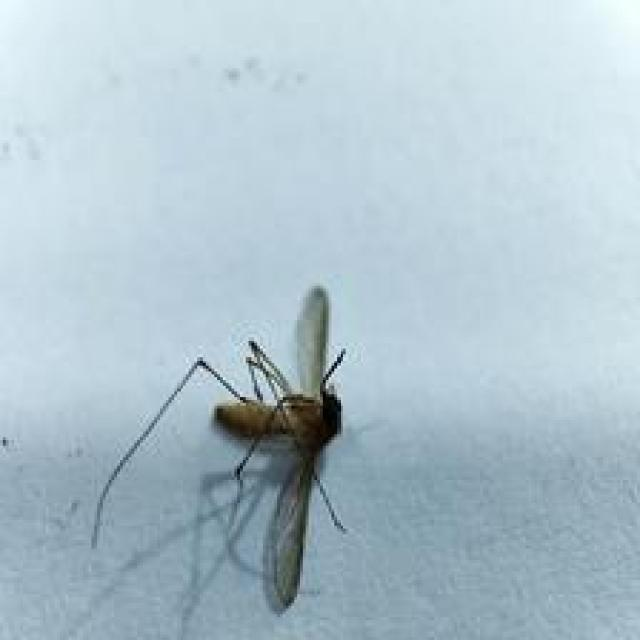Culex: (90, 284, 353, 627)
